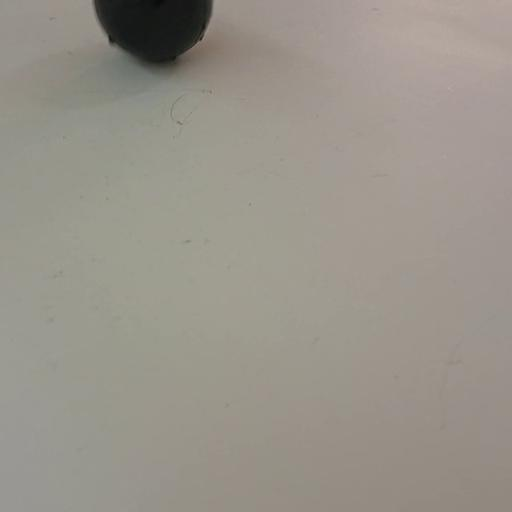dead: (92, 0, 216, 64)
